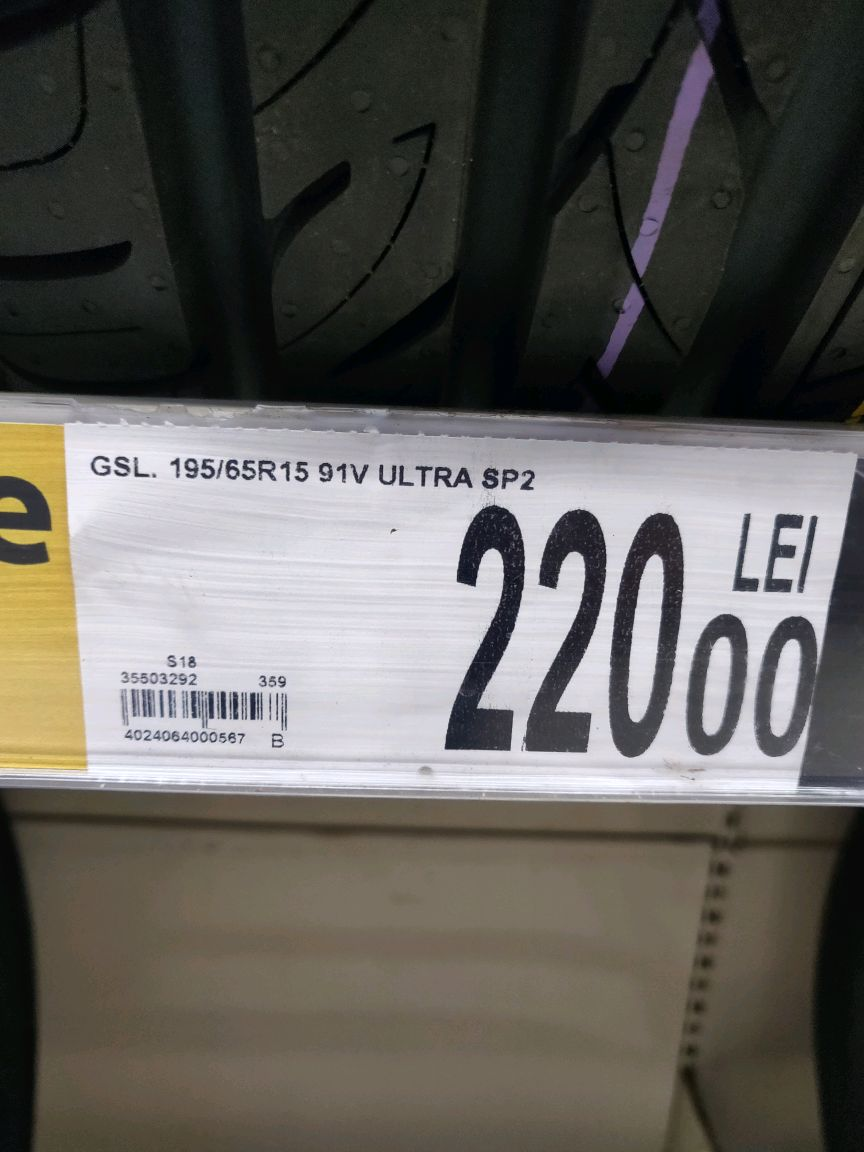price_bani: (682, 608, 829, 764)
price_lei: (435, 504, 685, 765)
price_tag: (59, 421, 853, 803)
product_id: (109, 724, 255, 754)
product_name: (86, 448, 540, 499)
